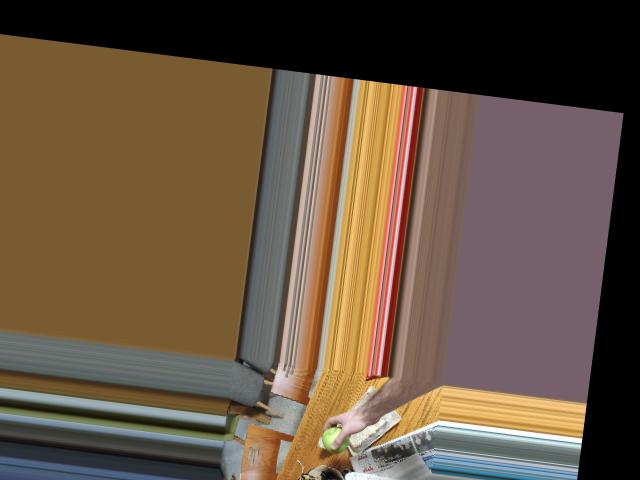apple: (319, 423, 352, 455)
